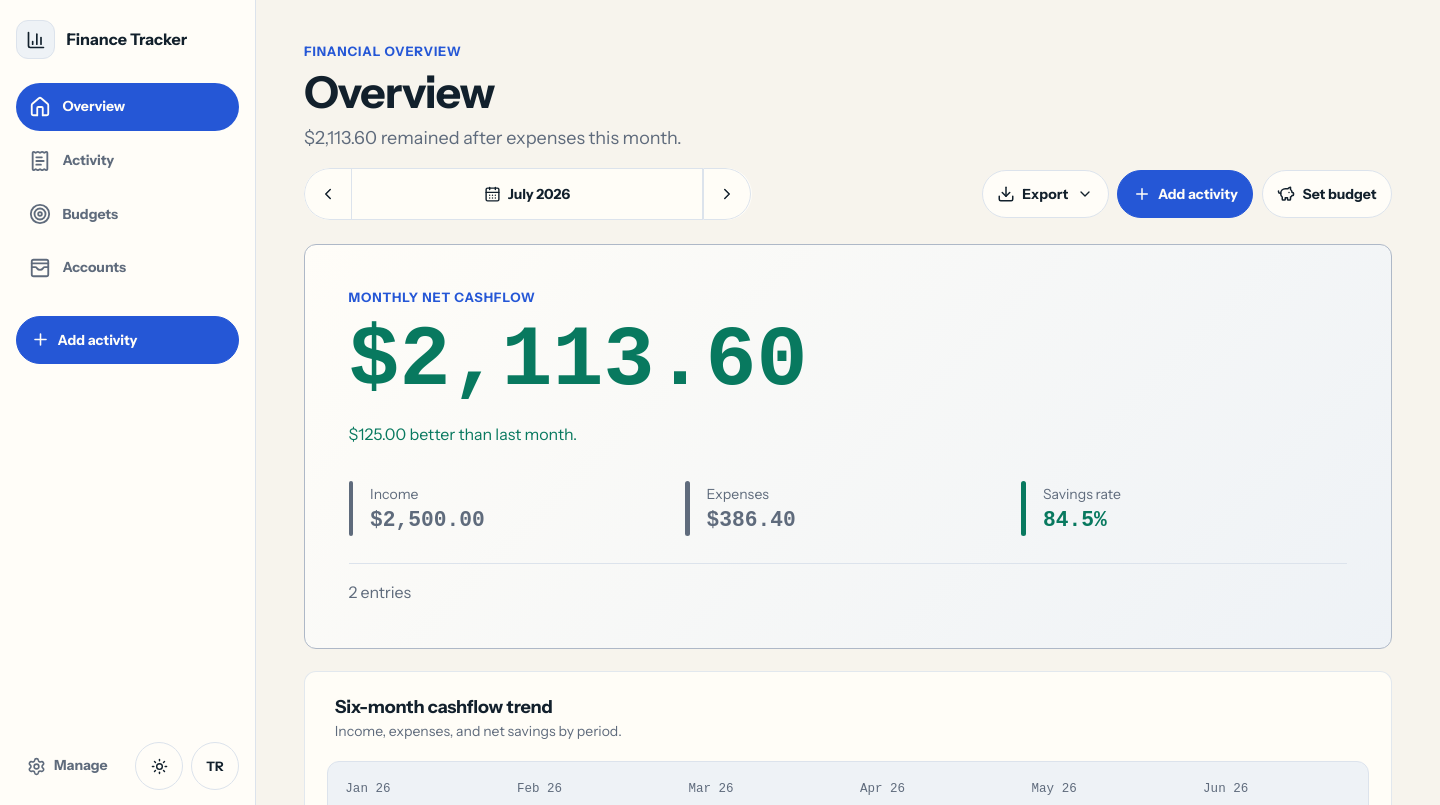
Test: theme preference workflow › updates the system-mode action when the OS color mode changes
Click the button named "Use light mode": {"x": 159, "y": 766} [135, 742, 183, 790]
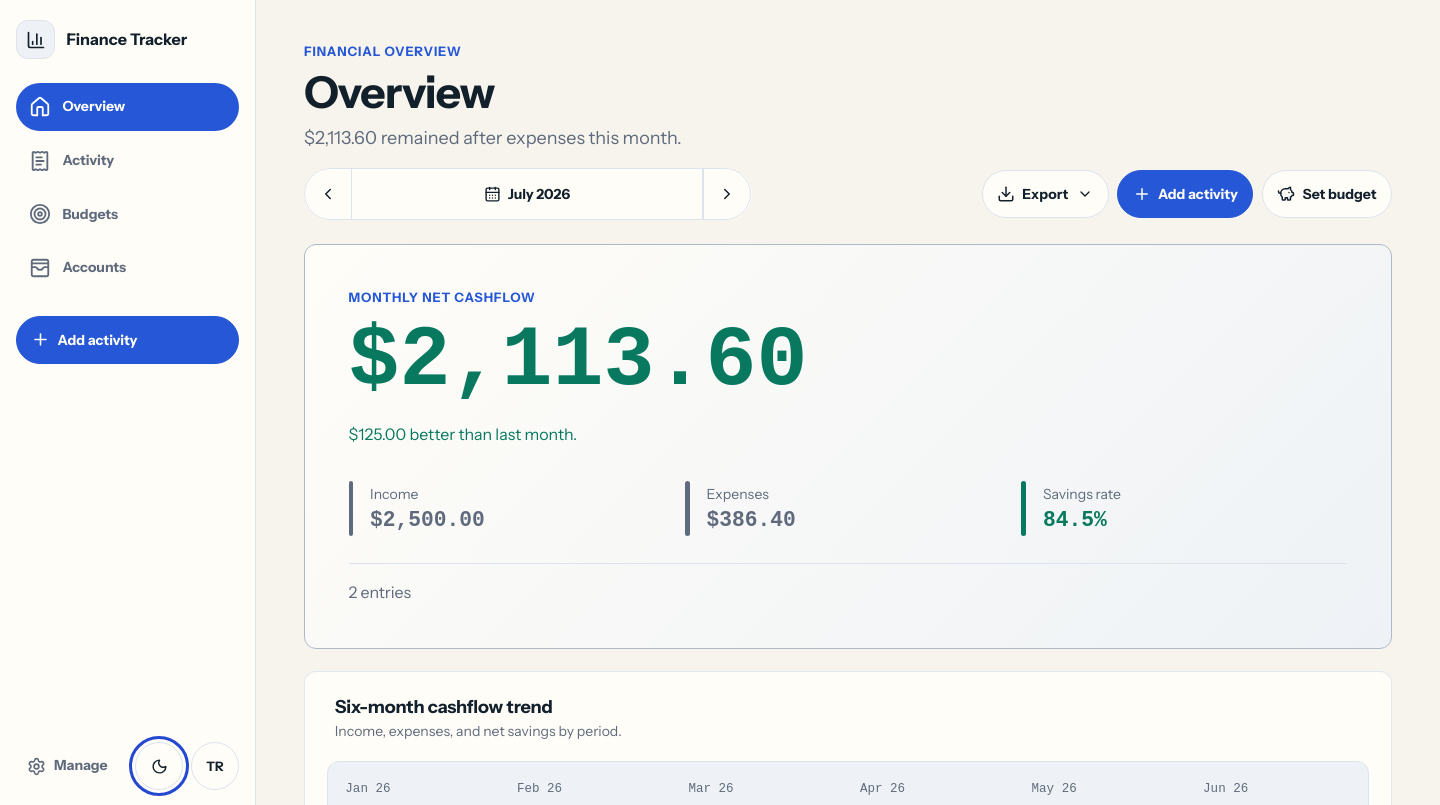
Expected: the button named "Use dark mode" is shown, [135, 742, 183, 790]
